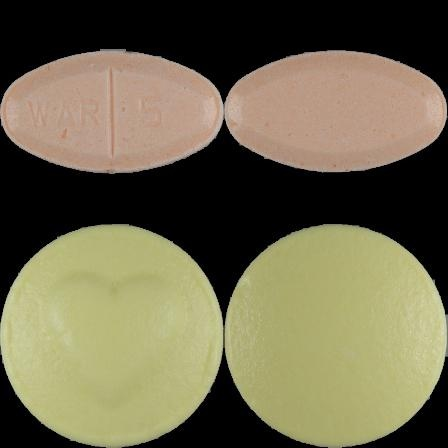21695-677: (0, 0, 224, 224)
